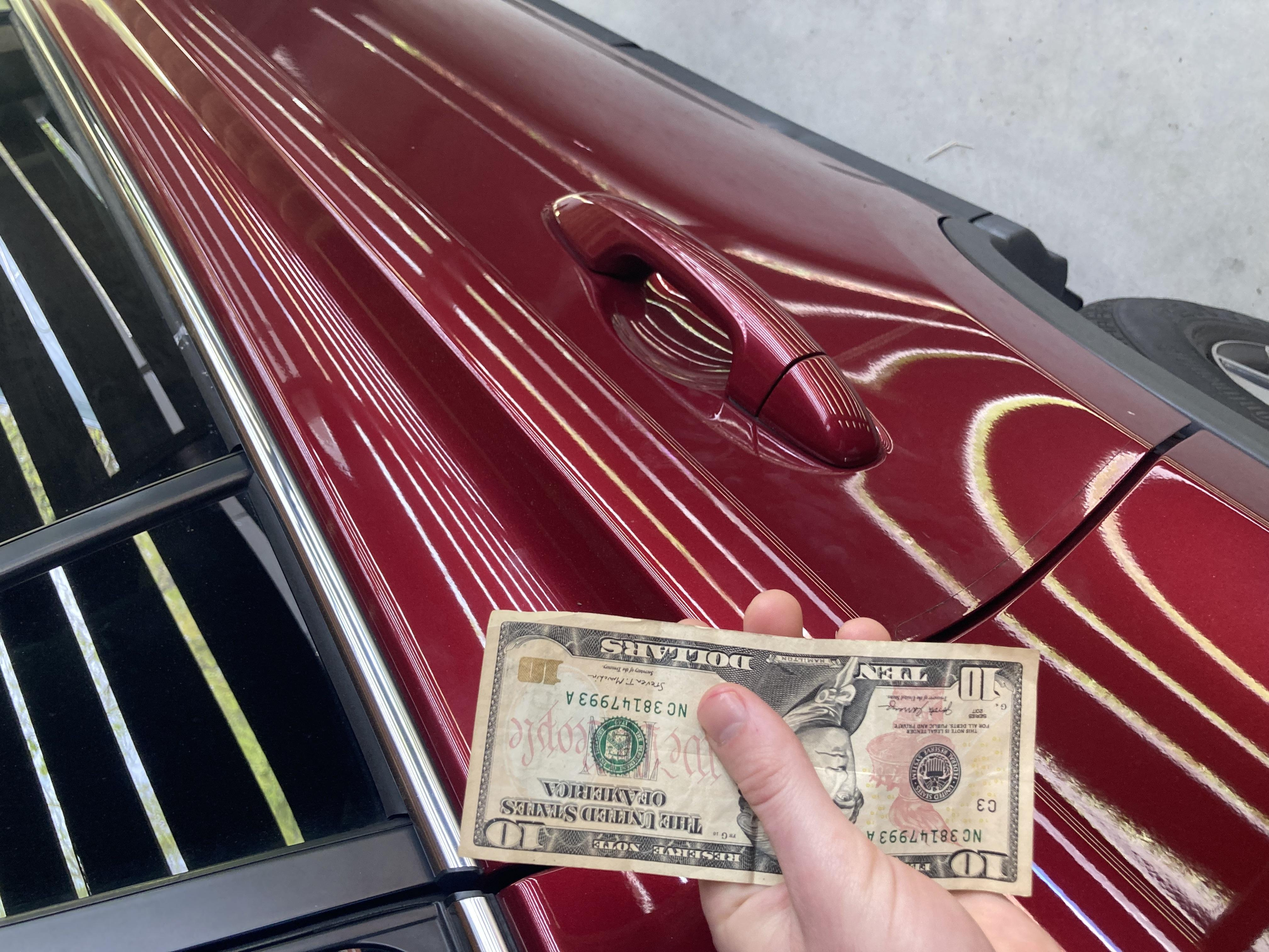ten-front: (82, 343, 462, 781)
